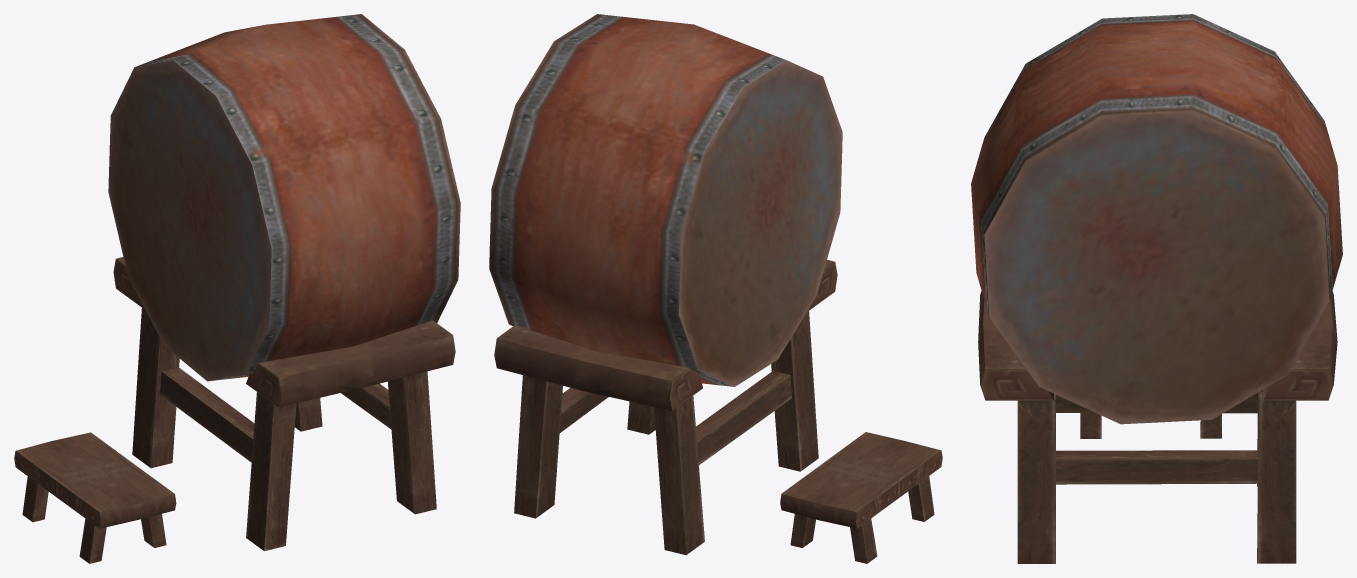
3 renders of one model, left to right at view 1: azimuth 30°, elevation 25°; view 2: azimuth 150°, elevation 25°; view 3: azimuth 270°, elevation 25°, orthographic. The views are drawn at different scales.
Visible parts, largest first — view 1: gu_yc_40_ncl1_2, gu_yc_40_dengzi; view 2: gu_yc_40_ncl1_2, gu_yc_40_dengzi; view 3: gu_yc_40_ncl1_2, gu_yc_40_dengzi.
Boxes of the visible parts, x1,y1,x2,y2 form: gu_yc_40_ncl1_2: (108, 14, 460, 551); gu_yc_40_dengzi: (14, 432, 176, 563); gu_yc_40_ncl1_2: (489, 14, 842, 555); gu_yc_40_dengzi: (780, 432, 942, 563); gu_yc_40_ncl1_2: (971, 14, 1342, 563); gu_yc_40_dengzi: (1080, 413, 1221, 438).
Size of what is drawn, in the model's own units: 358 by 466 by 335.
